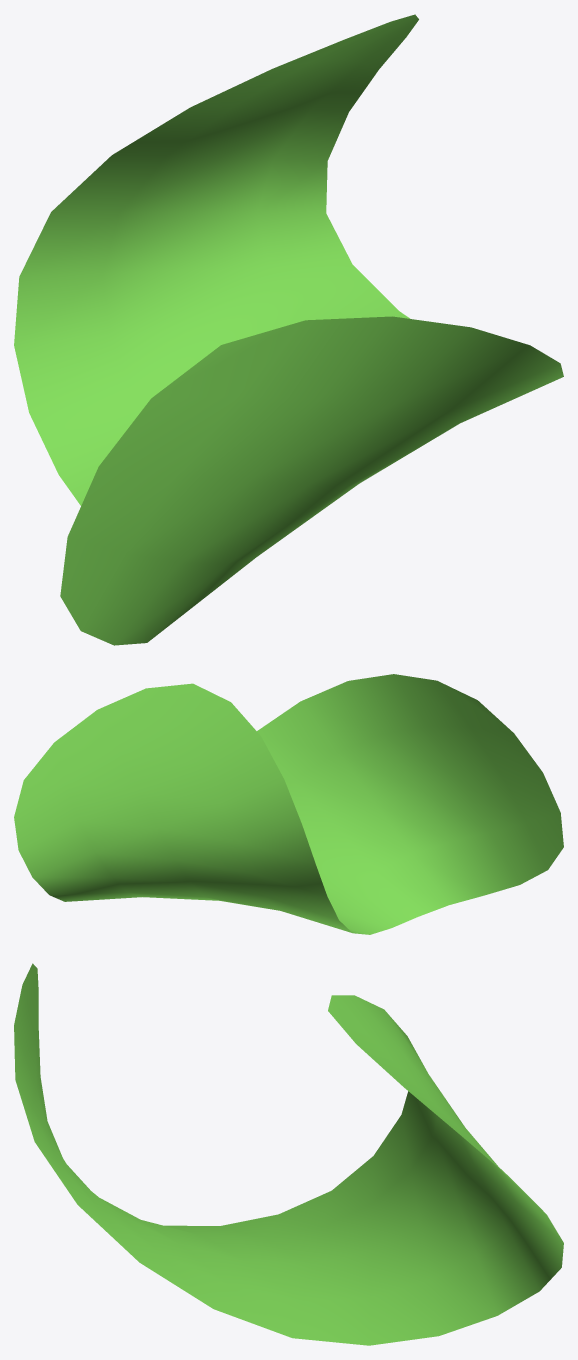
File: confetti3.glb
3 renders of one model, top to bottom at view 1: azimuth 30°, elevation 25°; view 2: azimuth 150°, elevation 25°; view 3: azimuth 270°, elevation 25°, orthographic. The views are drawn at different scales.
Visible parts, largest first — view 1: Plane.002; view 2: Plane.002; view 3: Plane.002.
Boxes of the visible parts, x1,y1,x2,y2 form: Plane.002: (14, 14, 563, 645); Plane.002: (14, 674, 563, 934); Plane.002: (14, 963, 563, 1345).
Size of the model in its own units: 0.4969 by 0.3051 by 0.467.
